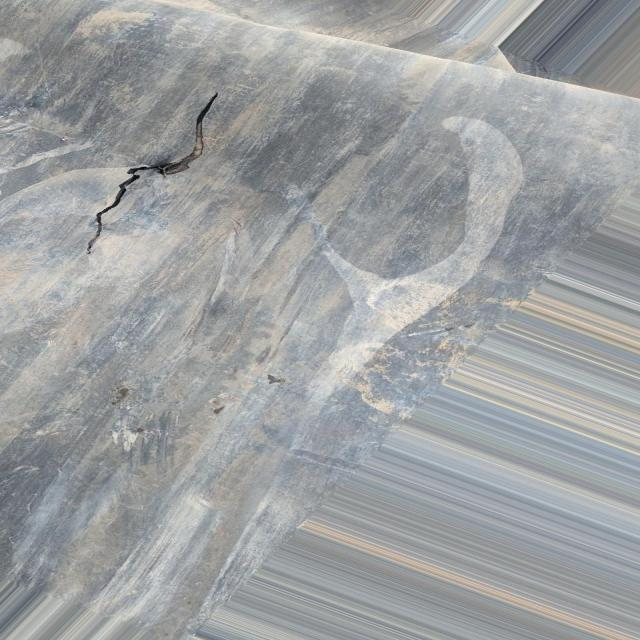Tear: (88, 90, 224, 250)
